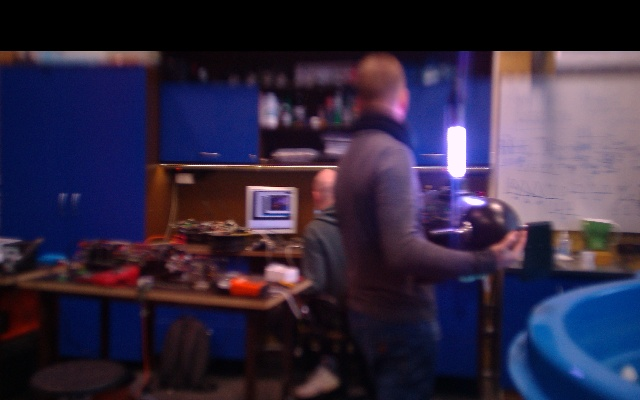white: (444, 126, 467, 178)
